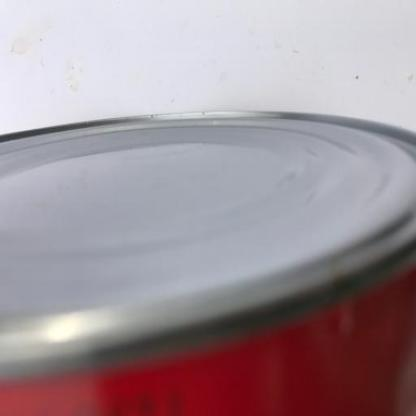METAL: (0, 110, 415, 415)
